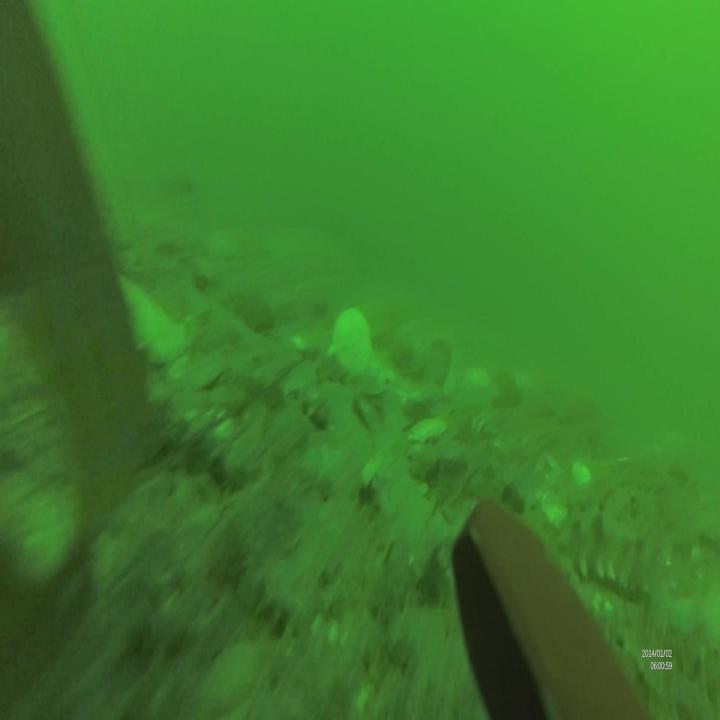holothurian: (566, 504, 648, 596)
